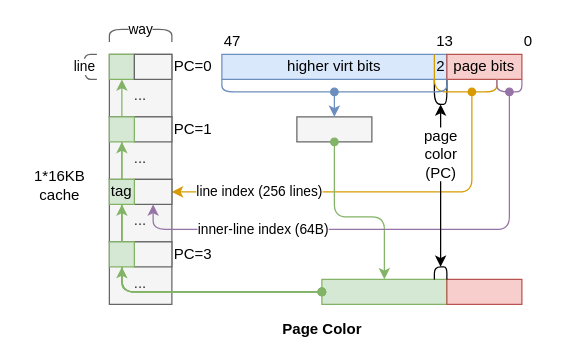
Some shapes in this 568 by 364 pixel diagram are drawn without their labels. Here are the shapes that lost their labels. From the top down, the centre of each, then its label:
At (334,129): "TLB".
At (152,191): "data".
At (384,291): "higher phys bits".
